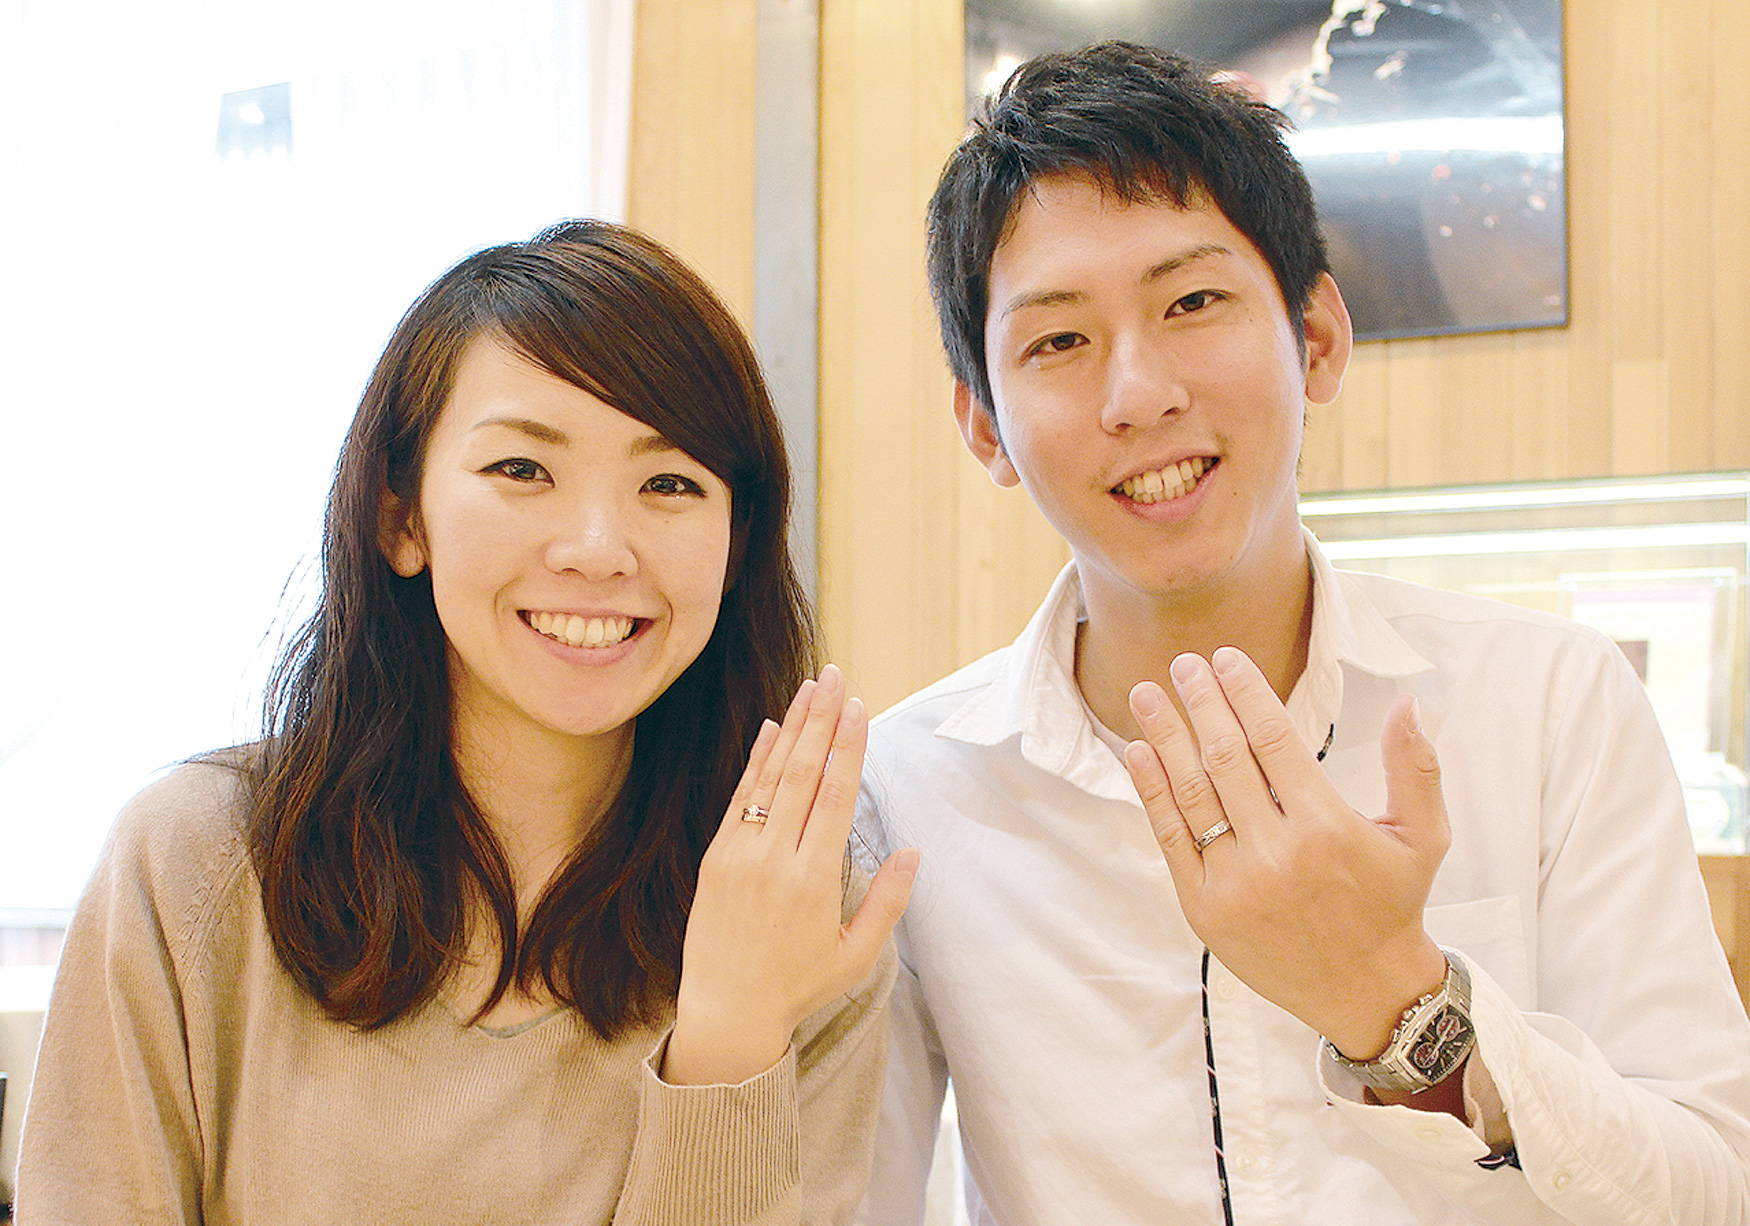face: (947, 158, 1354, 599), (413, 312, 734, 735)
hand: (1114, 640, 1455, 1002), (660, 660, 918, 1065)
